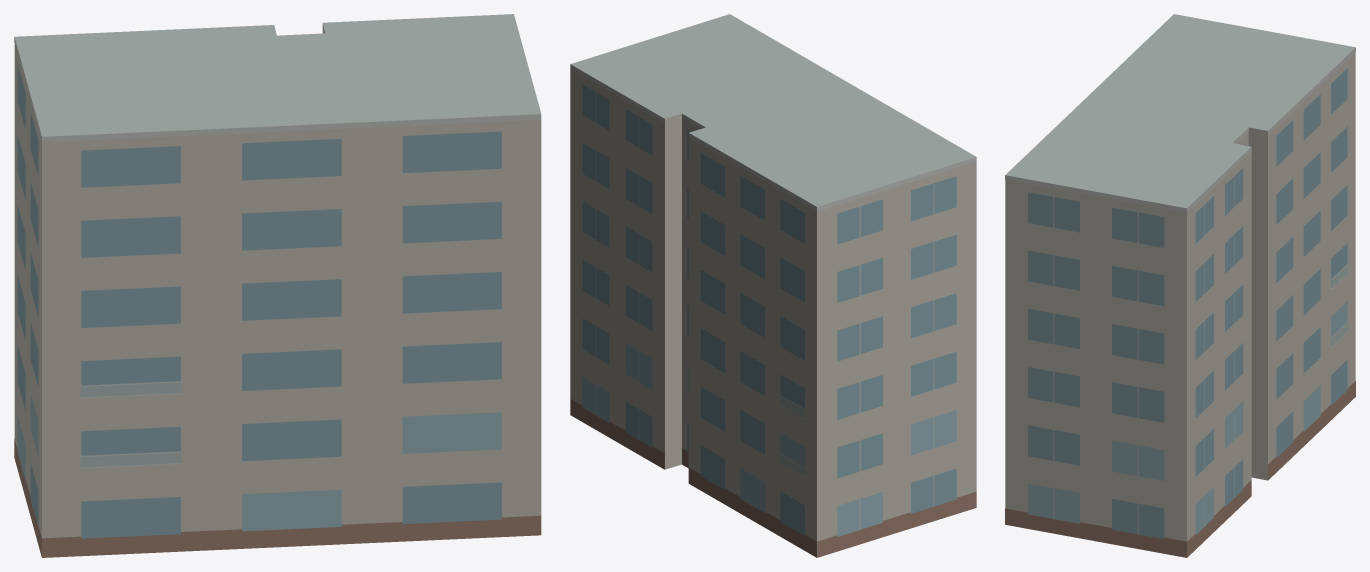
The model's file is survey-upis-32968864.glb.
3 views of the same model, side by side, from view 1: azimuth 30°, elevation 25°; view 2: azimuth 150°, elevation 25°; view 3: azimuth 270°, elevation 25° (orthographic). The views are drawn at different scales.
Visible parts, largest first — view 1: survey-upis-32968864.tmp; view 2: survey-upis-32968864.tmp; view 3: survey-upis-32968864.tmp.
Part boxes in pixels (<box>): survey-upis-32968864.tmp: <box>14,14,541,557</box>; survey-upis-32968864.tmp: <box>570,14,976,557</box>; survey-upis-32968864.tmp: <box>1005,14,1355,557</box>.
Size of the model in its own units: 21.83 by 18.3 by 16.65.
